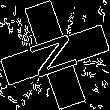N_E: (24, 28, 86, 82)
